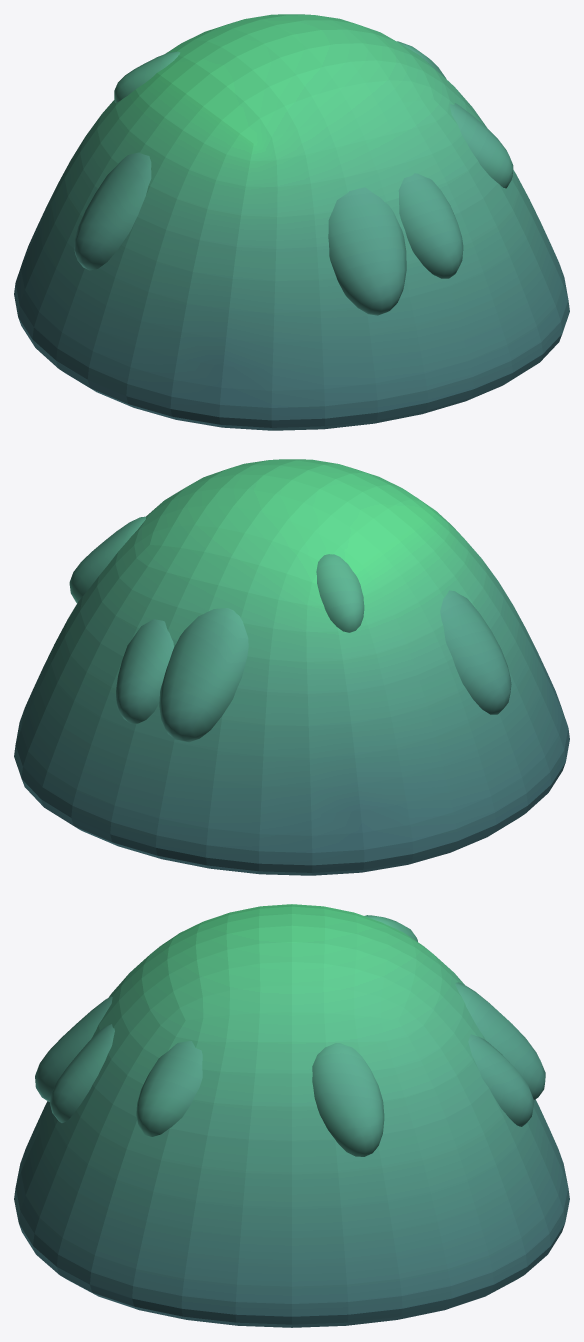
The model's file is bush2.fbx.
The picture shows the model from 3 angles, top to bottom: view 1: azimuth 30°, elevation 25°; view 2: azimuth 150°, elevation 25°; view 3: azimuth 270°, elevation 25°; orthographic projection. The views are drawn at different scales.
Visible parts, largest first — view 1: Plane.013; view 2: Plane.013; view 3: Plane.013.
Boxes of the visible parts, box(x1,y1,x2,y2) form: Plane.013: box(14, 14, 569, 430); Plane.013: box(14, 459, 569, 875); Plane.013: box(14, 904, 569, 1327).
Bounding box in the file's own units: 0.7789 × 0.4716 × 0.7789.
